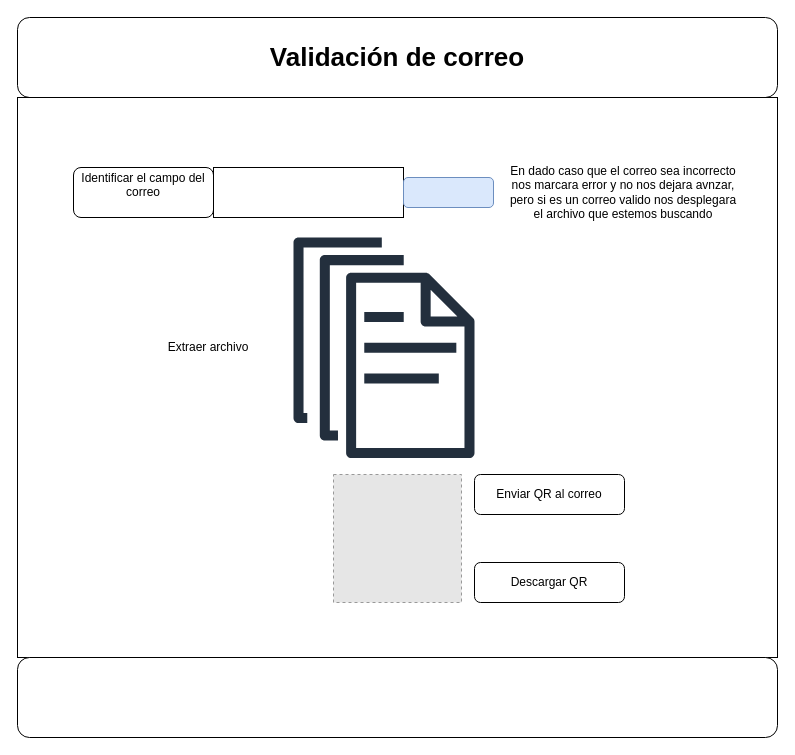
Image size: 795x755. Some labels were removed from this diagram. Grey dashed boxes stand in for pictures. Each missing label, with the box of its shape:
202020938@tese.edu.mx: (212, 166, 404, 218)
Validar: (402, 176, 494, 208)
